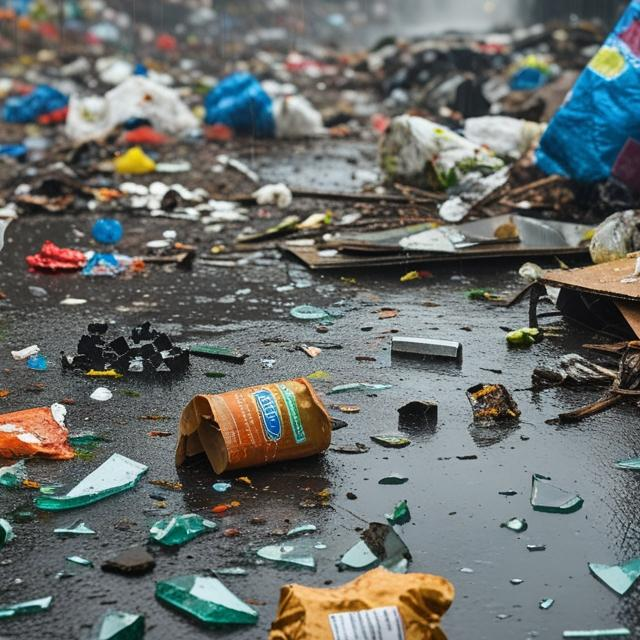metal: (378, 328, 467, 372)
plastic: (163, 358, 347, 472)
